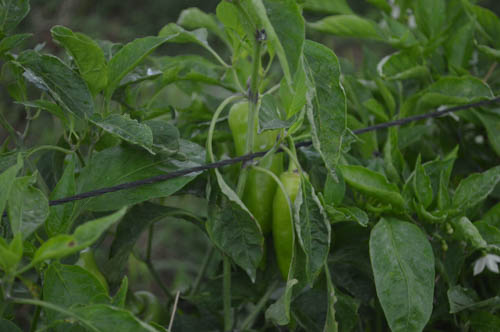ChiliPepper: (234, 104, 278, 234), (276, 170, 310, 276)
